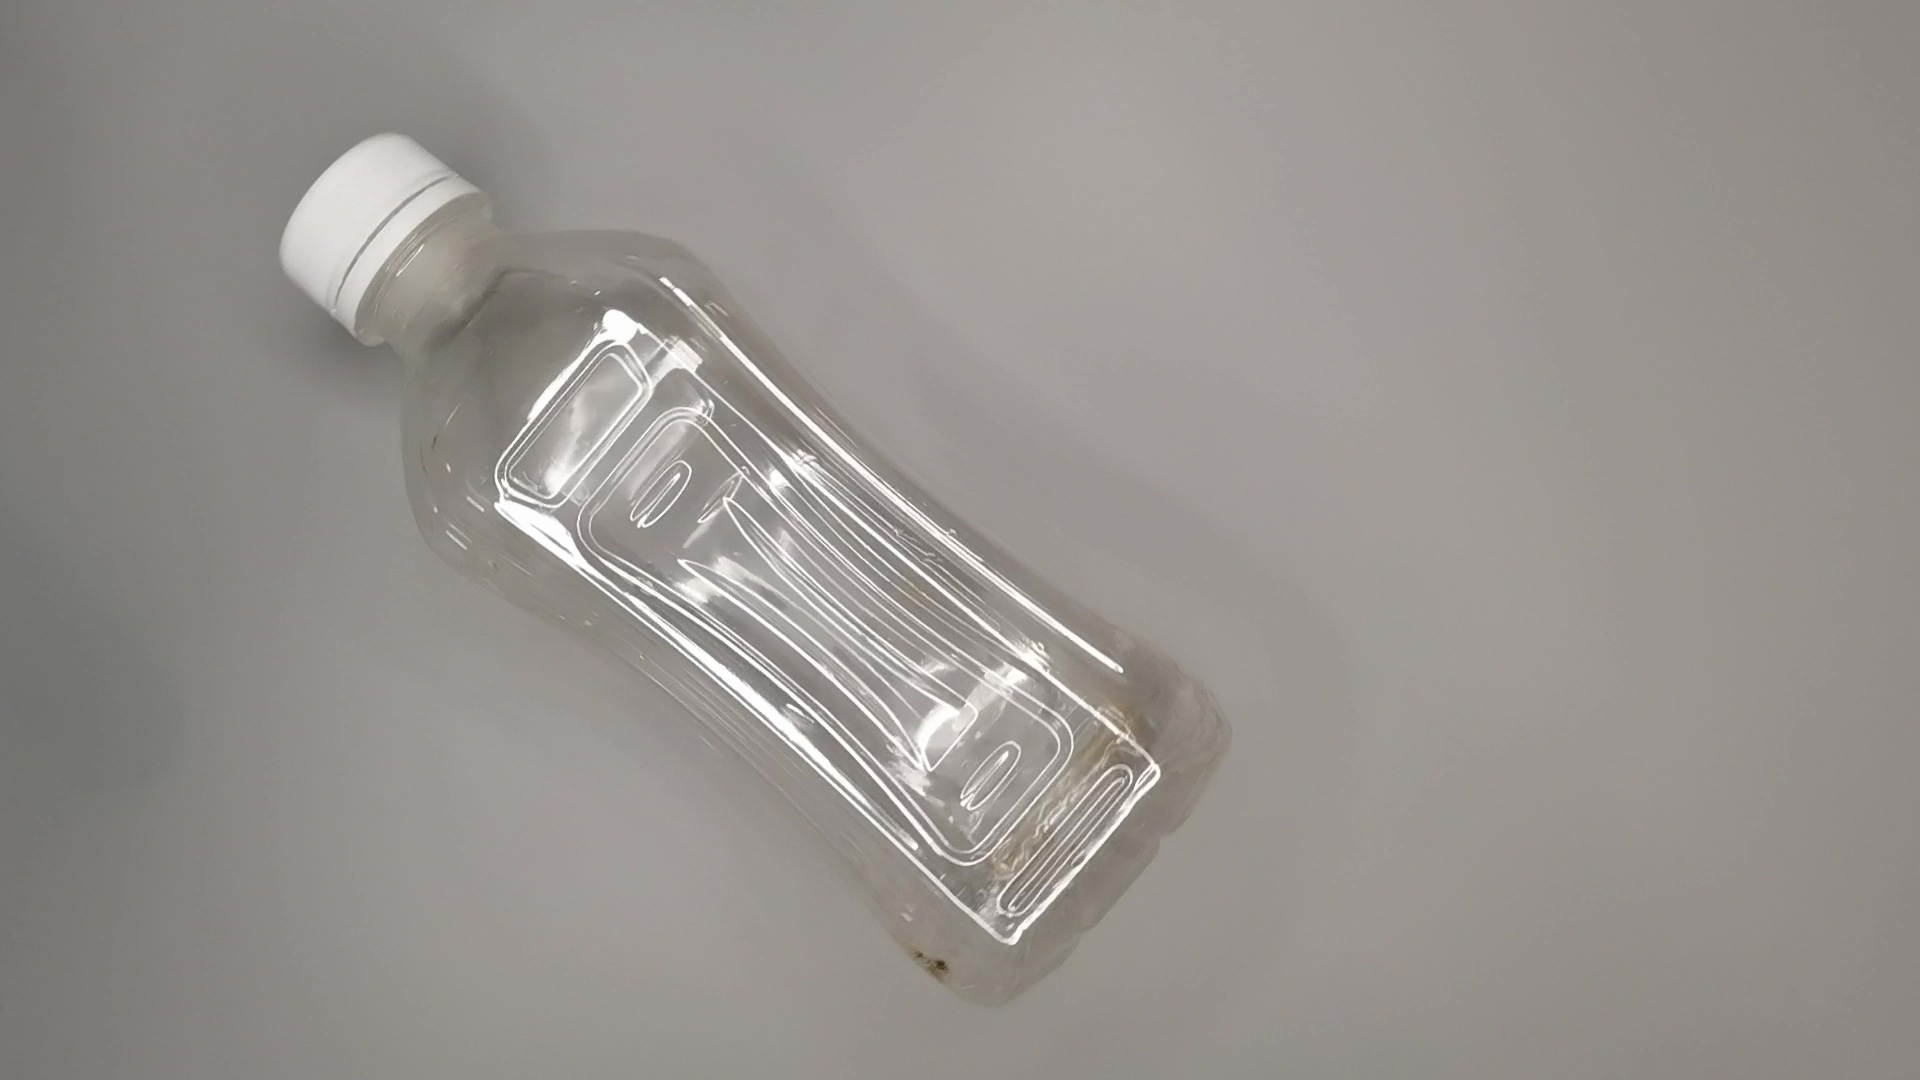bottle: (269, 127, 1240, 1009)
